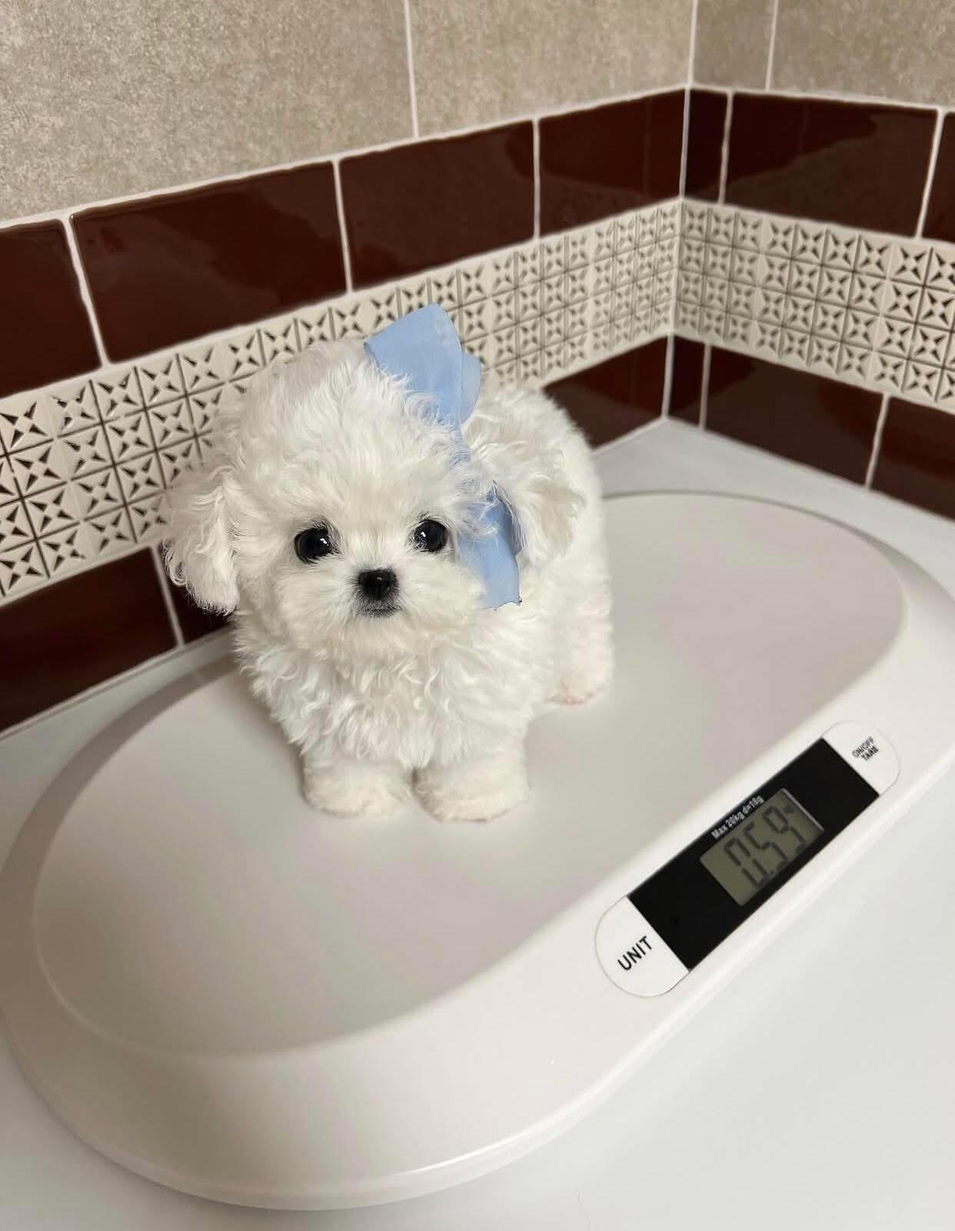puppy-dog: (158, 334, 614, 829)
